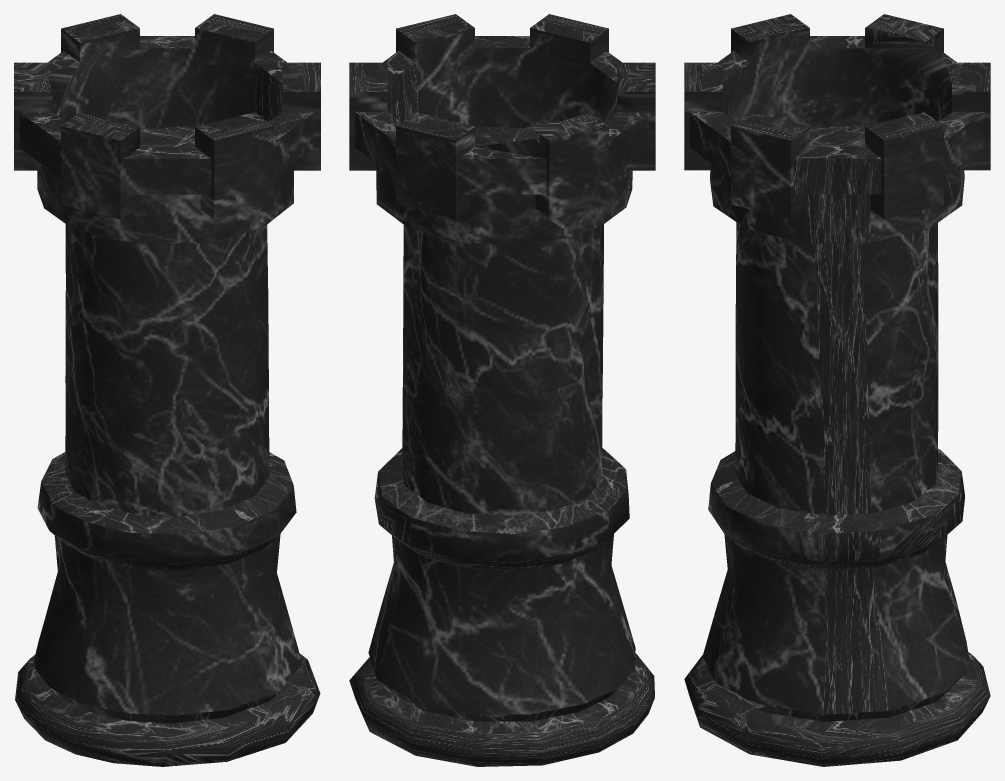
File: rookblack0.glb
3 views of the same model, side by side, from view 1: azimuth 30°, elevation 25°; view 2: azimuth 150°, elevation 25°; view 3: azimuth 270°, elevation 25° (orthographic).
Bounding box in the file's own units: 0.8542 × 1.94 × 0.8513.
Materials: 1 (1 with a texture image).
